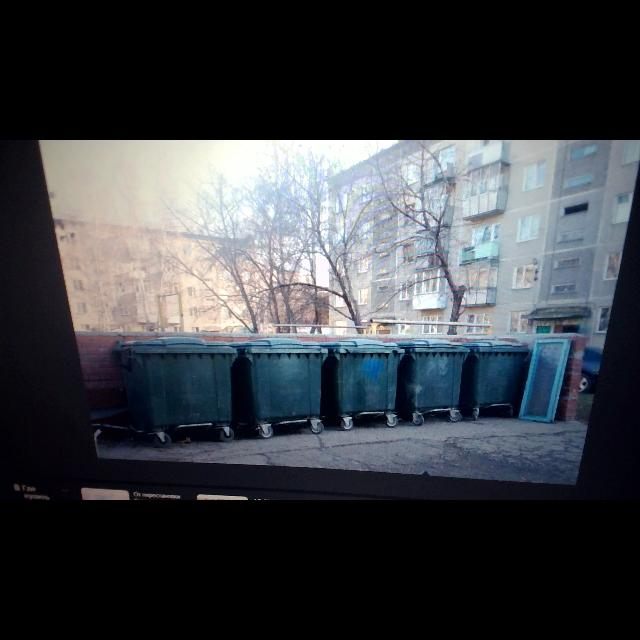Trash_Can_Closed: (113, 336, 238, 431), (228, 338, 327, 419), (319, 339, 405, 411), (393, 339, 470, 411), (461, 340, 529, 406)
